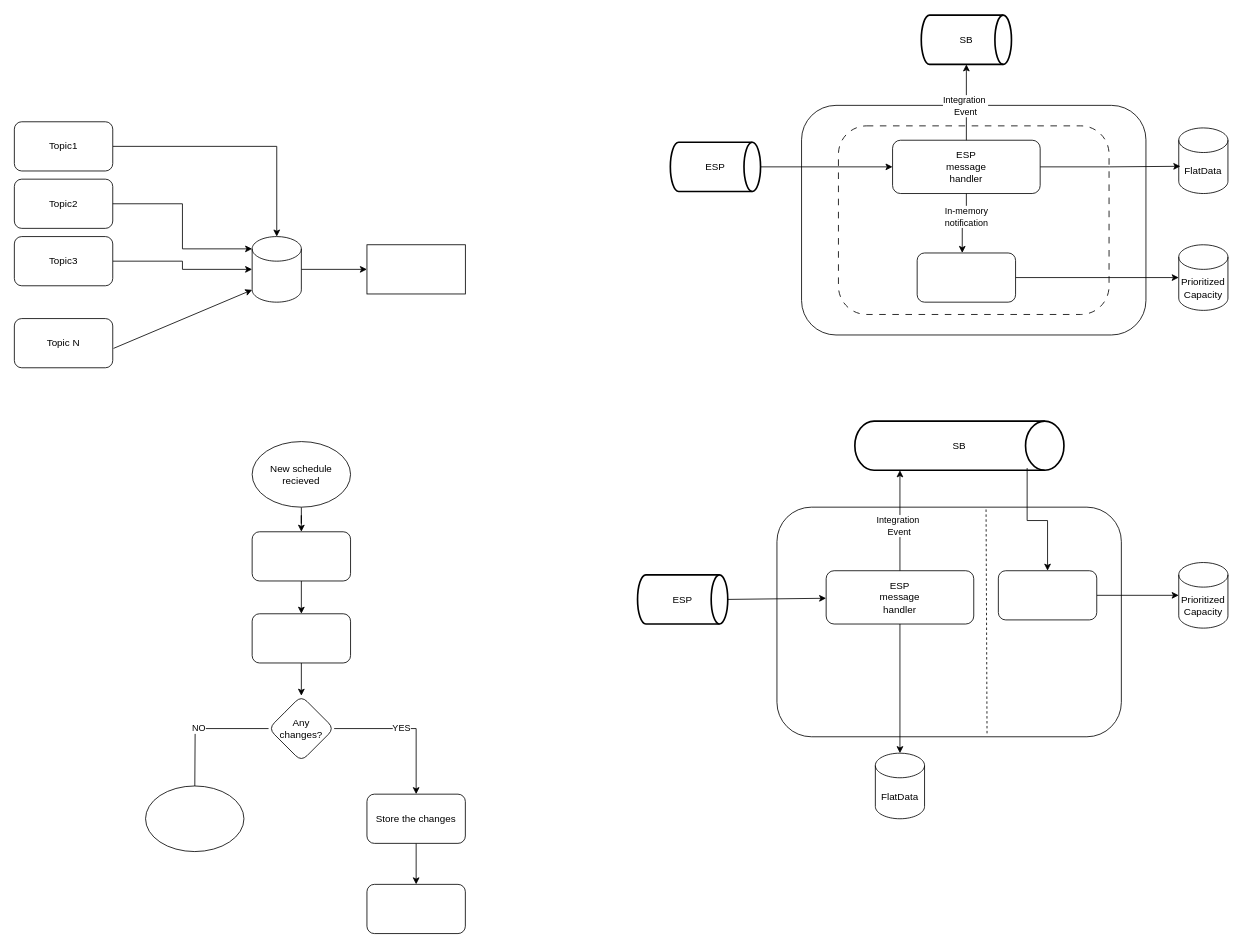
Some shapes in this 1242 by 948 pixel diagram are drawn without their labels. Here are the shapes that lost their labels. From the top down, the centre of each, then its label:
At point (415, 269): "Super Duper Final Capacity".
At point (966, 277): "Prioritized Capacity Handler (Same Thread)".
At point (301, 556): "Get the precalculated/stored data".
At point (1047, 595): "Prioritized Capacity Handler".
At point (301, 638): "Calculate per PTU".
At point (194, 818): "STOP".
At point (415, 909): "Published updated capacity".
